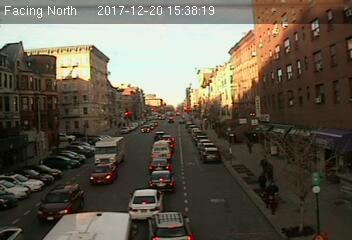car: (36, 184, 85, 224), (147, 211, 193, 240), (129, 188, 164, 218), (147, 169, 177, 191), (89, 163, 117, 184), (147, 159, 174, 171), (201, 147, 220, 162)
truck: (93, 137, 128, 166), (151, 141, 174, 160)
